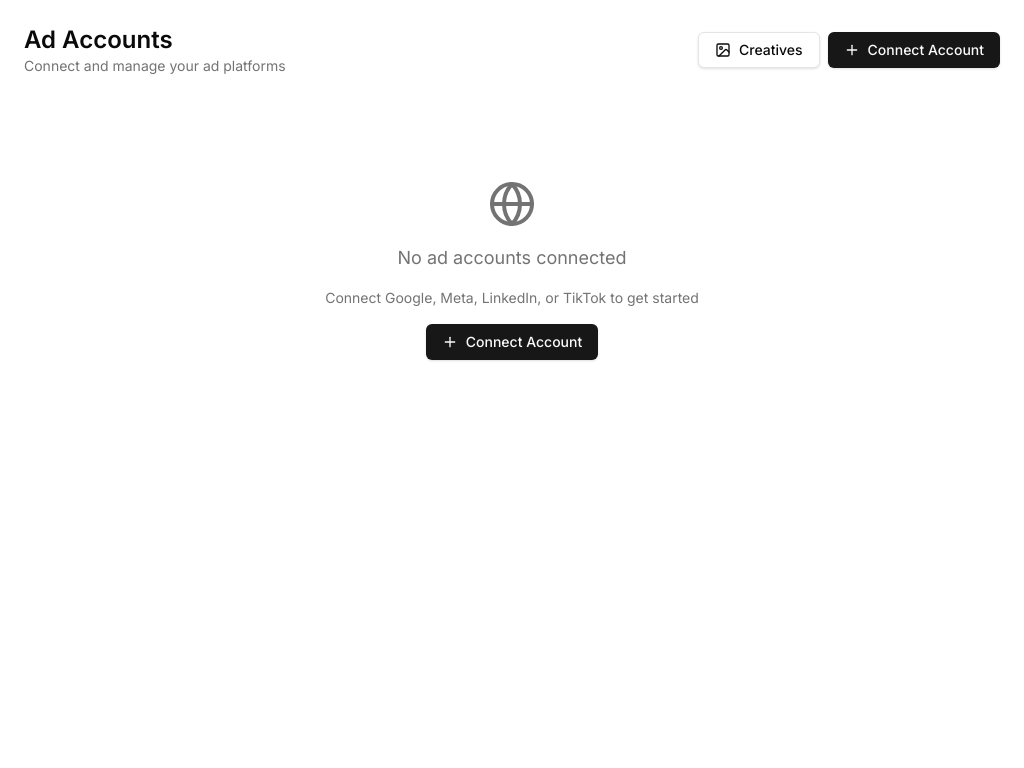
Test: AdvertisingPage › opens connect form
This screenshot has width=1024, height=768.
Click the button "Connect Account" in the row of "Connect and manage your ad platforms" at (914, 50), box [828,32,1000,68]
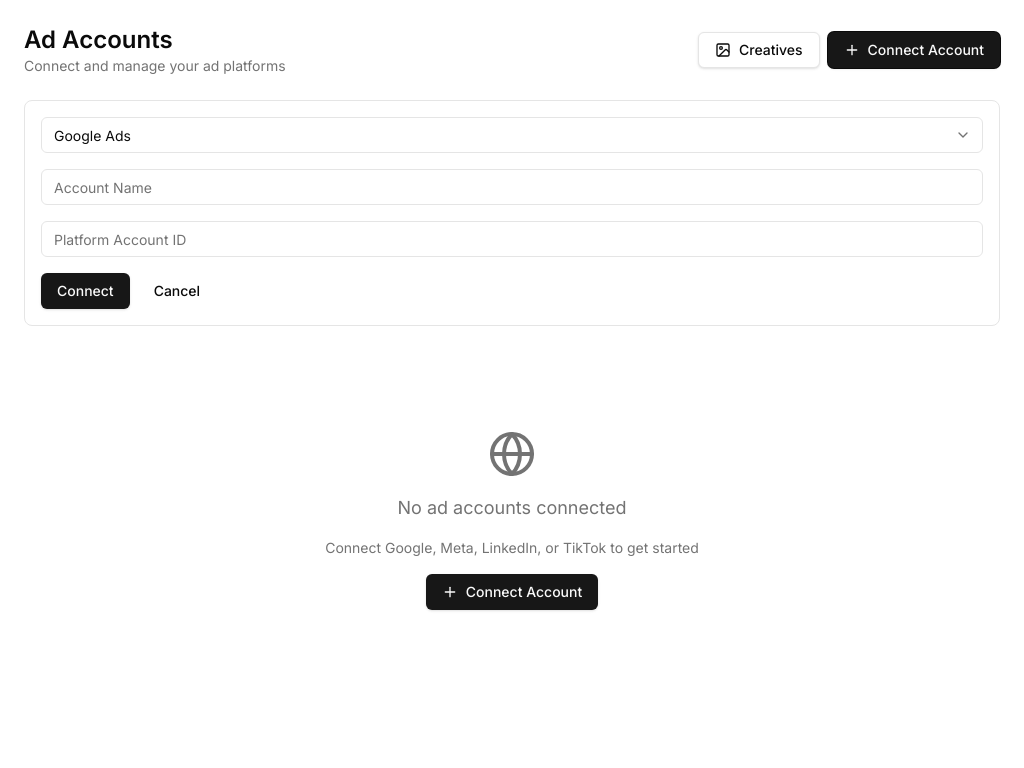
Now the field with placeholder "Account Name" is shown, box [41,169,983,205]
